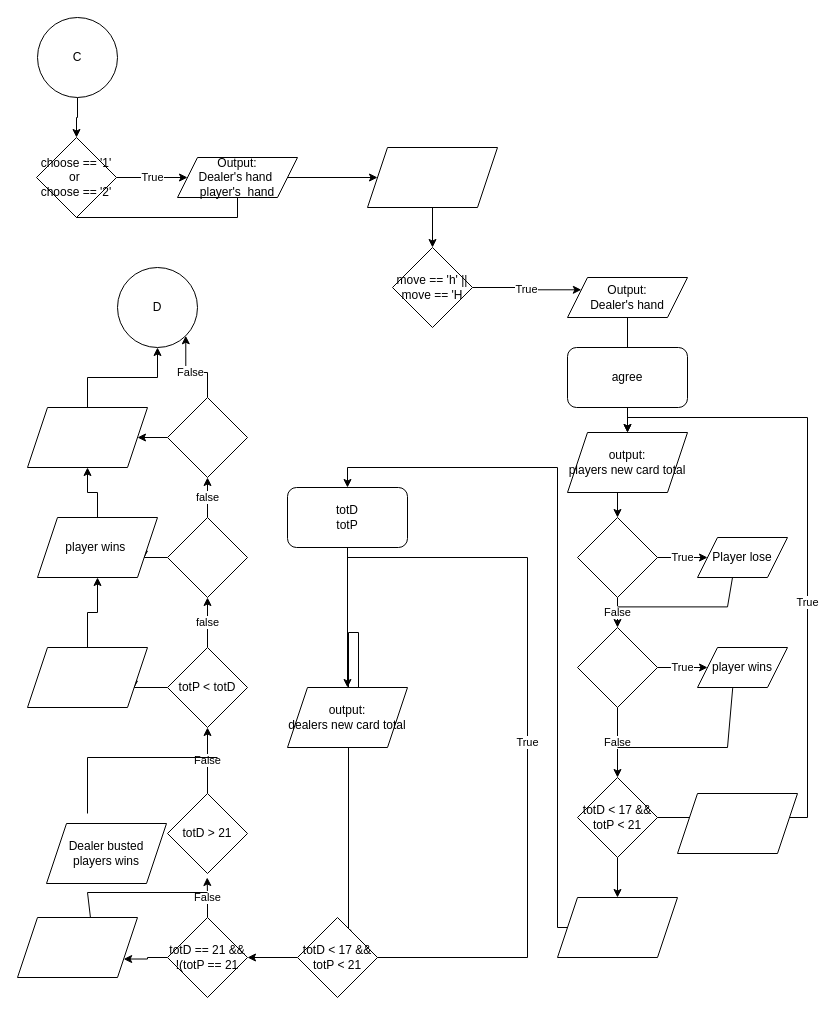
Image size: 836x1015. Some labels were removed from this diagram. The shapes that lost their labels are listed below. From the top down, each one's box as (x1, y1, x2, y2) in pixels, then its label:
(366, 146, 498, 208): Output: Do you want to hit(h) or stand(s)?
(26, 406, 148, 468): tie: no winner
(166, 396, 248, 478): totP == totD
(166, 516, 248, 598): totP > totD
(576, 516, 658, 598): totP > 21
(26, 646, 148, 708): Dealer wins Dealer Player loses
(576, 626, 658, 708): totP == 21
(676, 792, 798, 854): output: do you want to y or n?
(16, 916, 138, 978): Dealer wins player loses
(556, 896, 678, 958): Output: dealers hand player total
